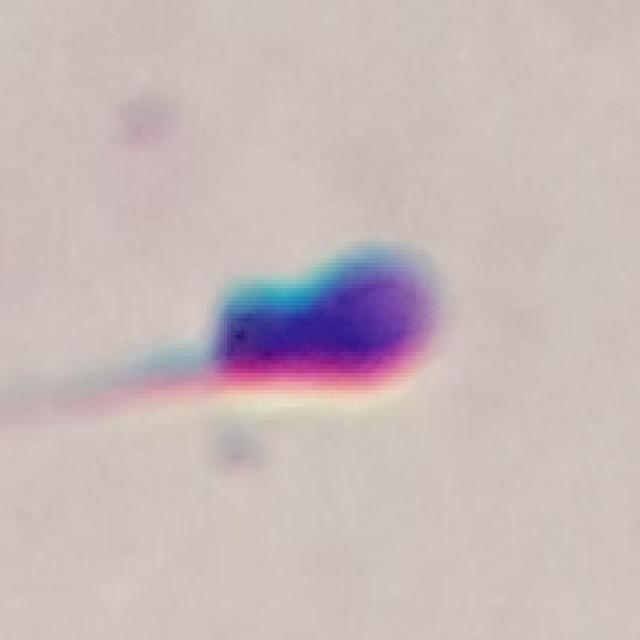abnormal sperm: (0, 233, 451, 411)
